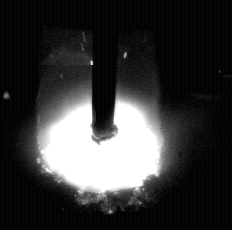arame: (93, 0, 116, 143)
poca: (37, 0, 162, 230)
